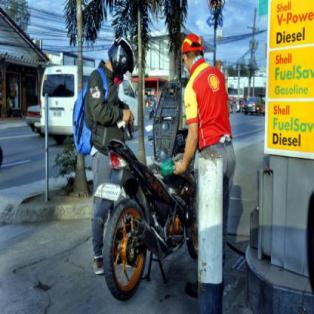Motocicleta: (90, 142, 208, 309)
